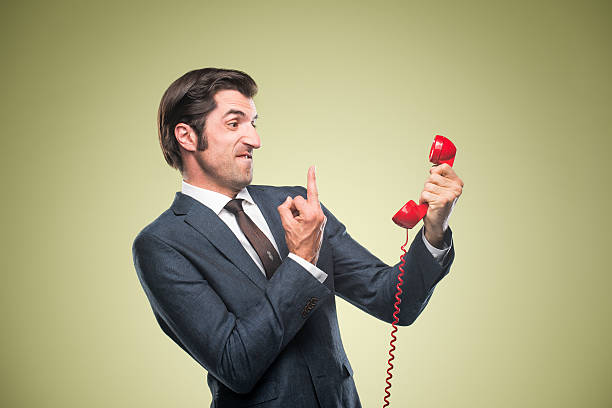insulting_gesture: (278, 164, 327, 263)
